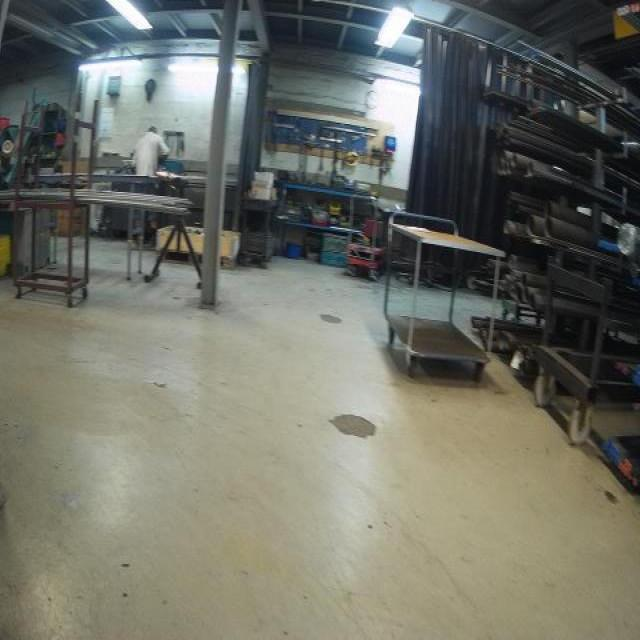pallet: (154, 249, 240, 273)
